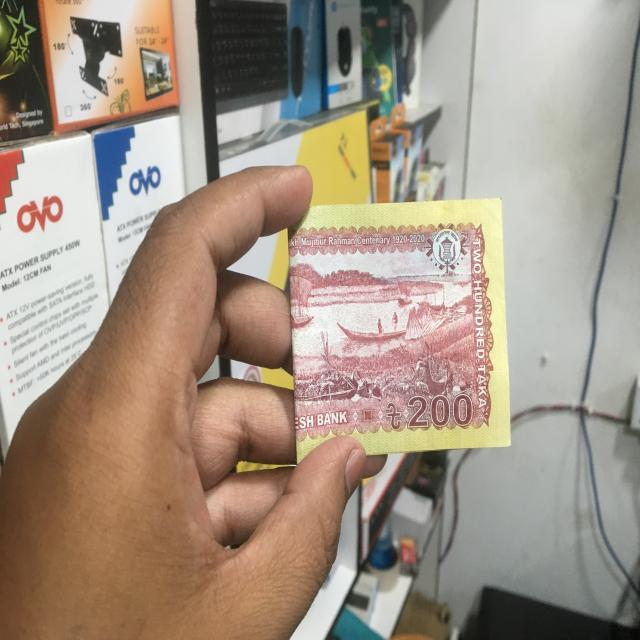Taka: (288, 199, 518, 453)
